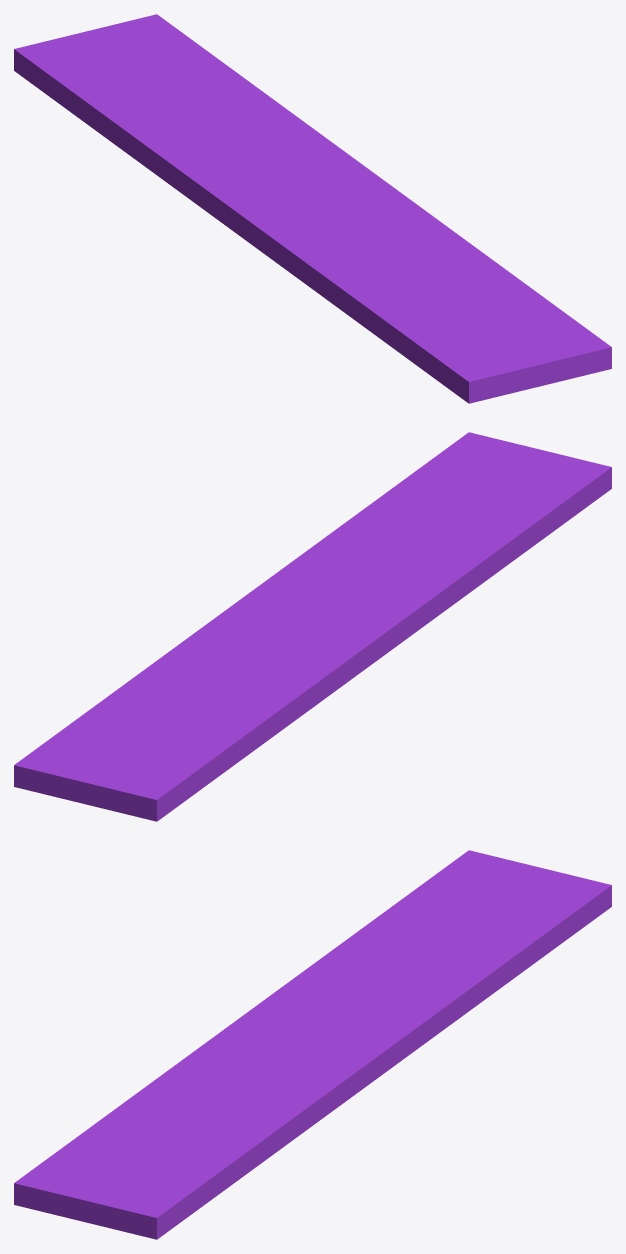
The model's file is StairsStep_52_chunks.fbx.
3 renders of one model, top to bottom at view 1: azimuth 30°, elevation 25°; view 2: azimuth 150°, elevation 25°; view 3: azimuth 330°, elevation 25°, orthographic.
Parts seen in each view (by area): view 1: StairsStep_52_9, StairsStep_52_2, StairsStep_52_10, StairsStep_52_4, StairsStep_52_11, StairsStep_52_12, StairsStep_52_5, StairsStep_52_7, StairsStep_52_3, StairsStep_52_0, StairsStep_52_8, StairsStep_52_1; view 2: StairsStep_52_2, StairsStep_52_9, StairsStep_52_10, StairsStep_52_4, StairsStep_52_11, StairsStep_52_12, StairsStep_52_7, StairsStep_52_5, StairsStep_52_3, StairsStep_52_0, StairsStep_52_8, StairsStep_52_1; view 3: StairsStep_52_9, StairsStep_52_2, StairsStep_52_11, StairsStep_52_7, StairsStep_52_5, StairsStep_52_10, StairsStep_52_12, StairsStep_52_4, StairsStep_52_3, StairsStep_52_0, StairsStep_52_8.
Part boxes in pixels (x1=…): StairsStep_52_9: x1=388, y1=282, x2=611, y2=403; StairsStep_52_2: x1=14, y1=18, x2=239, y2=145; StairsStep_52_10: x1=259, y1=225, x2=408, y2=344; StairsStep_52_4: x1=134, y1=135, x2=295, y2=249; StairsStep_52_11: x1=267, y1=201, x2=464, y2=256; StairsStep_52_12: x1=397, y1=240, x2=557, y2=307; StairsStep_52_5: x1=259, y1=121, x2=398, y2=191; StairsStep_52_7: x1=139, y1=14, x2=303, y2=122; StairsStep_52_3: x1=210, y1=119, x2=304, y2=207; StairsStep_52_0: x1=293, y1=173, x2=411, y2=202; StairsStep_52_8: x1=213, y1=92, x2=280, y2=139; StairsStep_52_1: x1=116, y1=135, x2=171, y2=185; StairsStep_52_2: x1=32, y1=682, x2=274, y2=821; StairsStep_52_9: x1=415, y1=432, x2=611, y2=547; StairsStep_52_10: x1=390, y1=515, x2=545, y2=641; StairsStep_52_4: x1=237, y1=617, x2=402, y2=712; StairsStep_52_11: x1=269, y1=539, x2=391, y2=619; StairsStep_52_12: x1=322, y1=471, x2=437, y2=555; StairsStep_52_7: x1=14, y1=658, x2=174, y2=792; StairsStep_52_5: x1=161, y1=588, x2=272, y2=665; StairsStep_52_3: x1=189, y1=616, x2=340, y2=684; StairsStep_52_0: x1=256, y1=578, x2=326, y2=635; StairsStep_52_8: x1=146, y1=665, x2=218, y2=705; StairsStep_52_1: x1=259, y1=706, x2=314, y2=746; StairsStep_52_9: x1=14, y1=1111, x2=291, y2=1239; StairsStep_52_2: x1=351, y1=850, x2=593, y2=967; StairsStep_52_11: x1=234, y1=1030, x2=358, y2=1138; StairsStep_52_7: x1=451, y1=880, x2=611, y2=1013; StairsStep_52_5: x1=354, y1=985, x2=465, y2=1094; StairsStep_52_10: x1=80, y1=1030, x2=235, y2=1134; StairsStep_52_12: x1=188, y1=1094, x2=303, y2=1178; StairsStep_52_4: x1=224, y1=938, x2=389, y2=1032; StairsStep_52_3: x1=285, y1=965, x2=436, y2=1033; StairsStep_52_0: x1=299, y1=1014, x2=369, y2=1073; StairsStep_52_8: x1=407, y1=945, x2=478, y2=985.
Size of the model in its own units: 200 by 28.98 by 1102.
